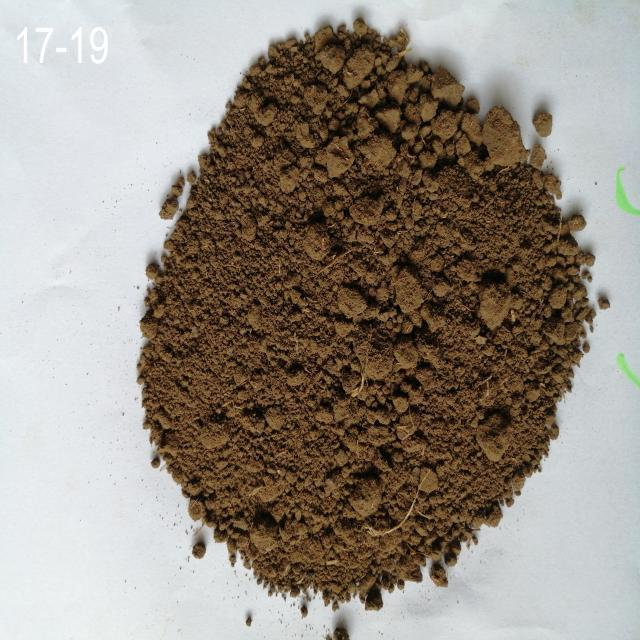soil: (217, 142, 520, 480)
